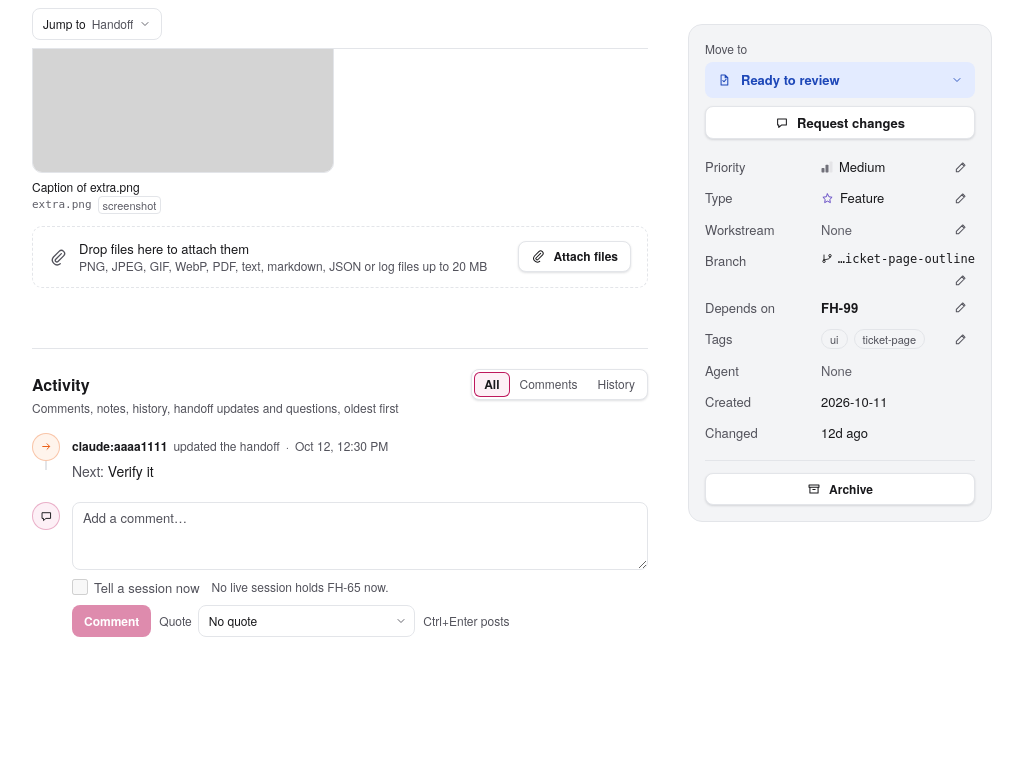
Scenario: filtering Activity › says when a filter has nothing to show
(page scrolled)
Click the radio button labelled "History" at (616, 383), box [598,375,635,392]
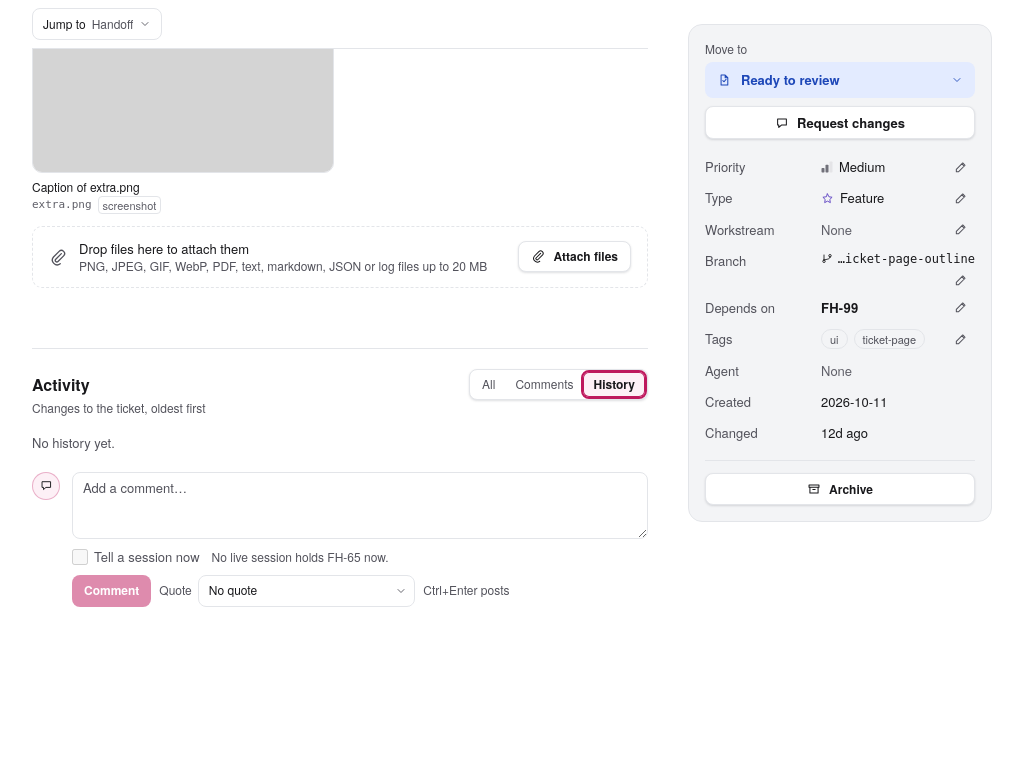
Check: the text "No history yet." is shown, box [32,432,115,452]
